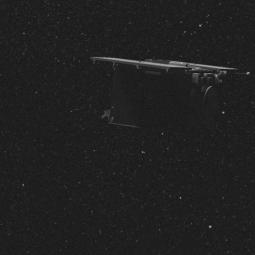proba_2: (77, 49, 251, 145)
